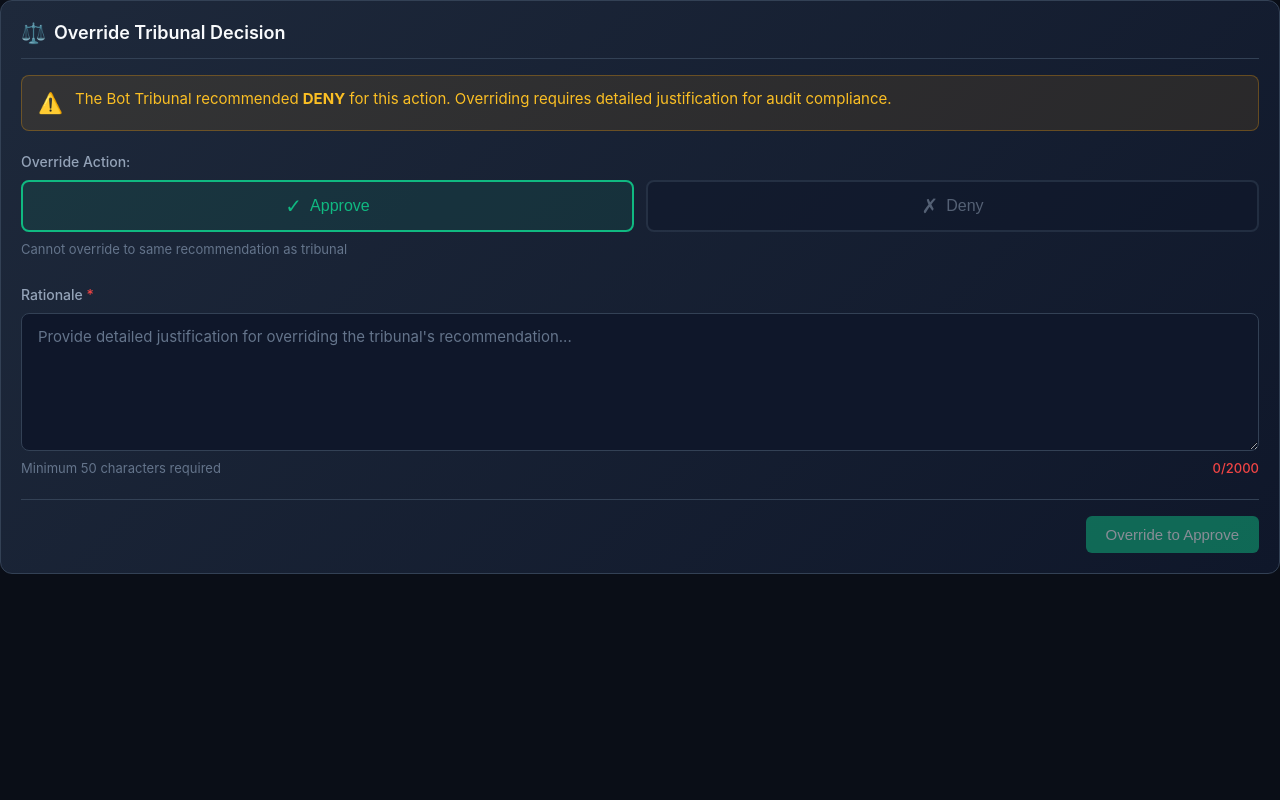
Test case: OverrideRationale › Form Submission › shows error on submission failure
This screenshot has width=1280, height=800.
Replace the text in the text box labelled "Rationale *" with "This is a valid rationale that meets the minimum character requirement for tribunal override documentation." at (640, 382), box [21, 312, 1259, 451]
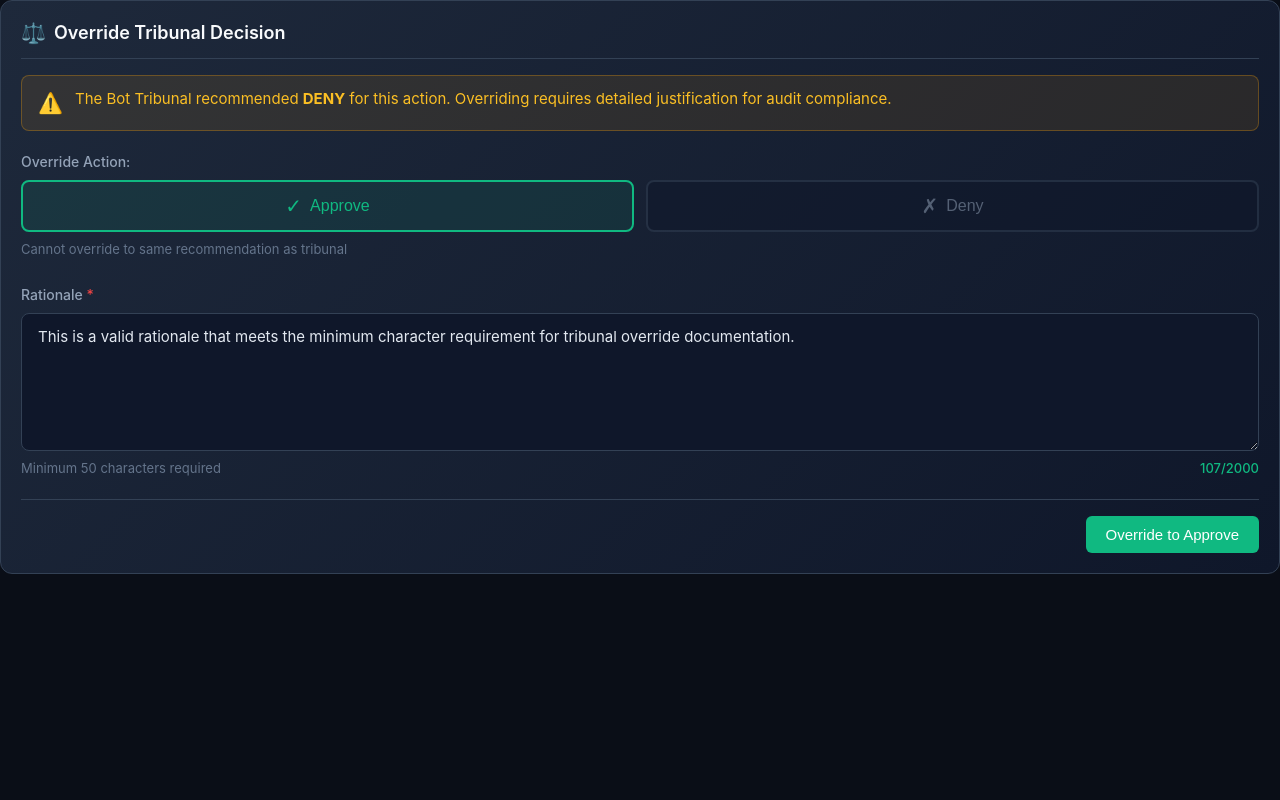
Click the submit button at (1172, 534), box [1086, 516, 1259, 552]
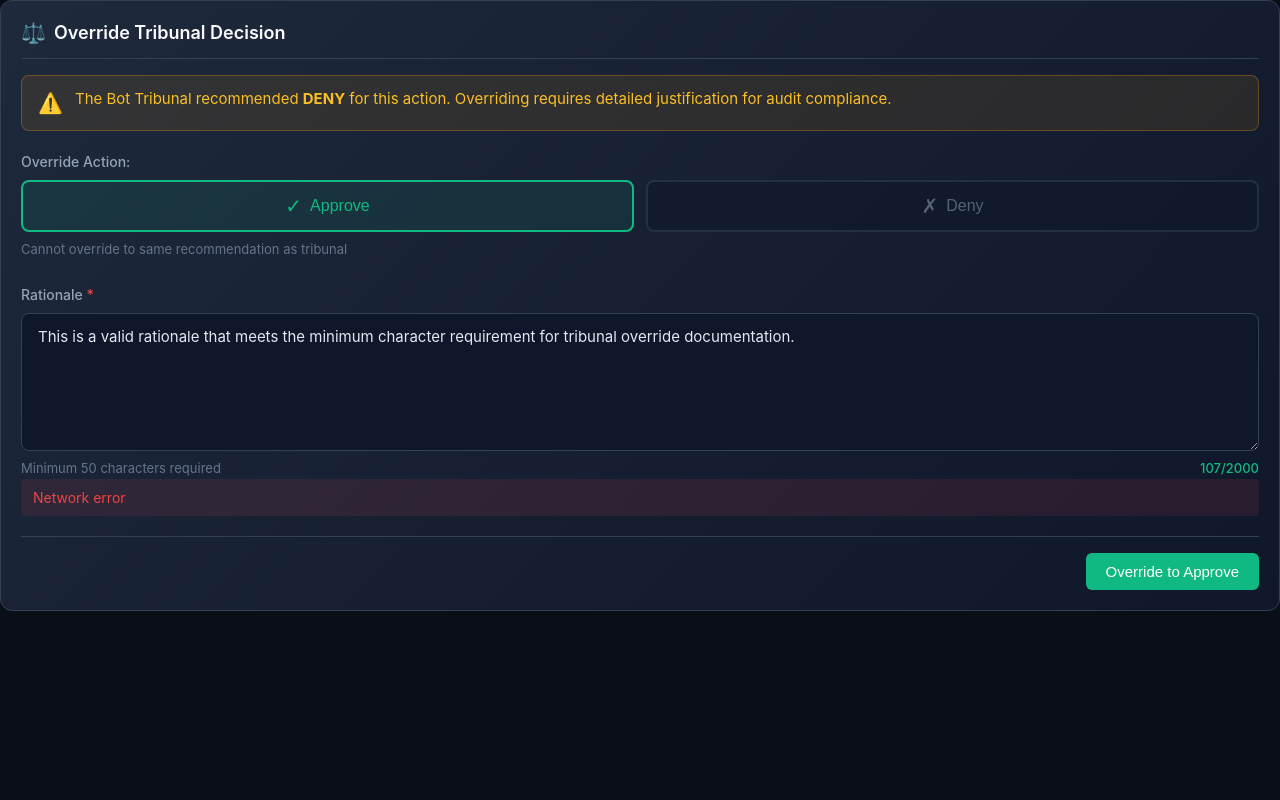
Result: the text "Network error" is shown at [21, 478, 1259, 516]
